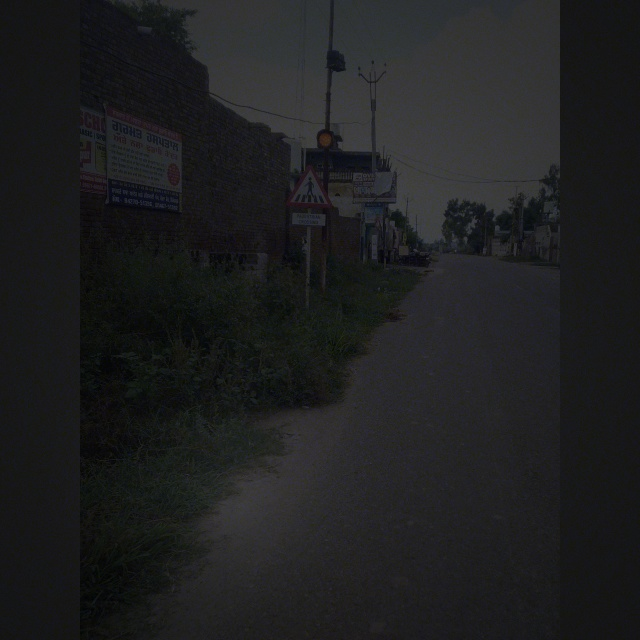Pedestrian_Crossing: (281, 165, 341, 218)
